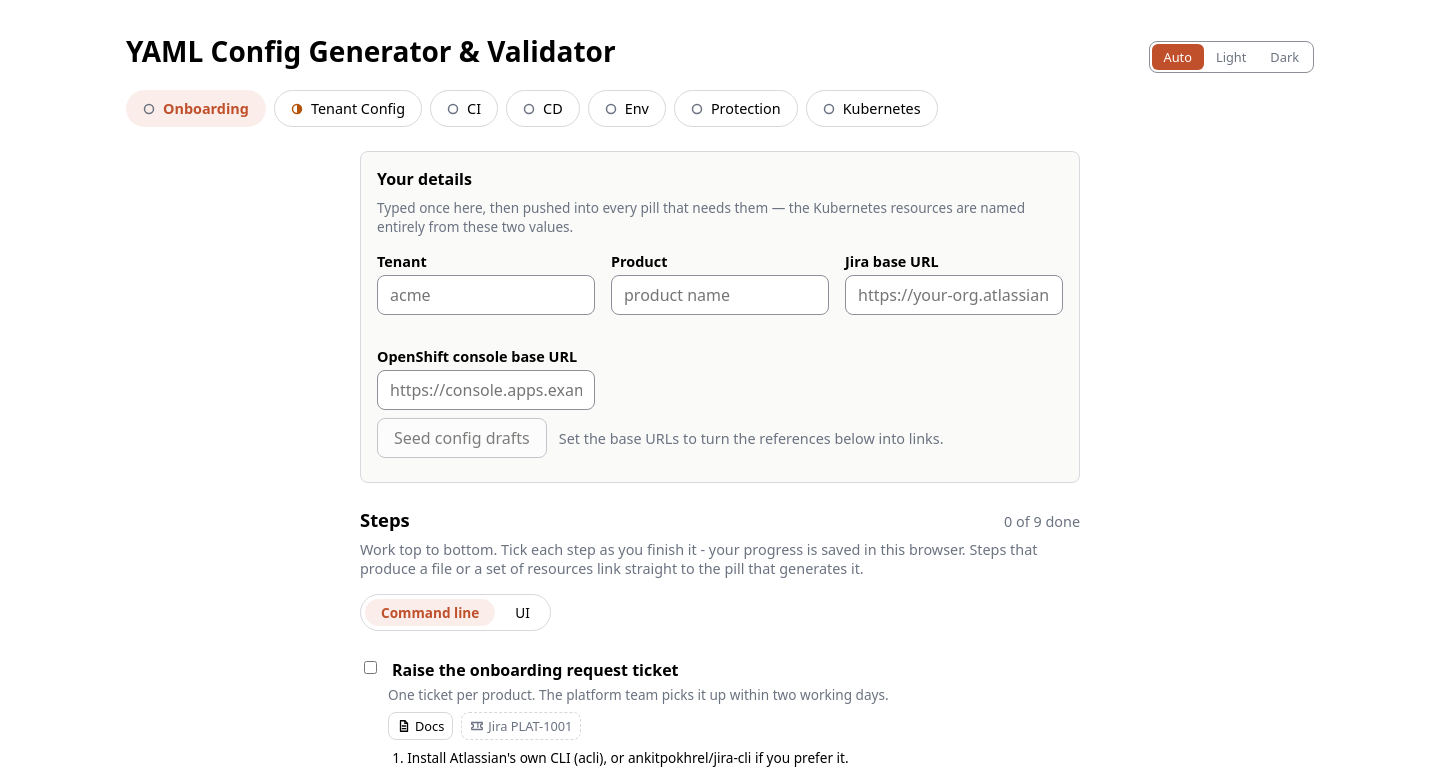
Test case: App › seeding reaches the Kubernetes pill, which names every resource from those two values
Type "globex" into the field labelled "Tenant" at {"x": 486, "y": 295}, box [377,275,595,315]
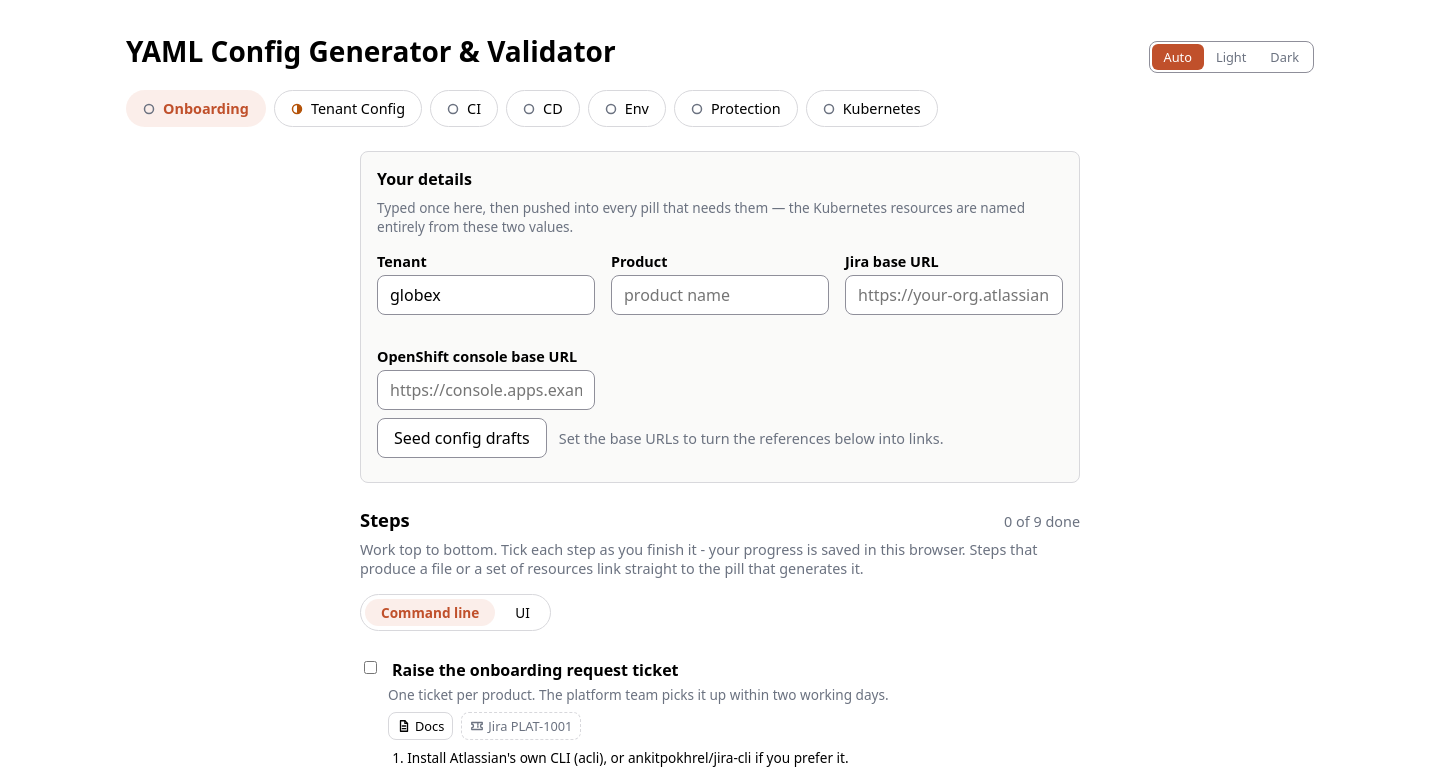
Type "gadgets" into the field labelled "Product" at {"x": 720, "y": 295}, box [611,275,829,315]
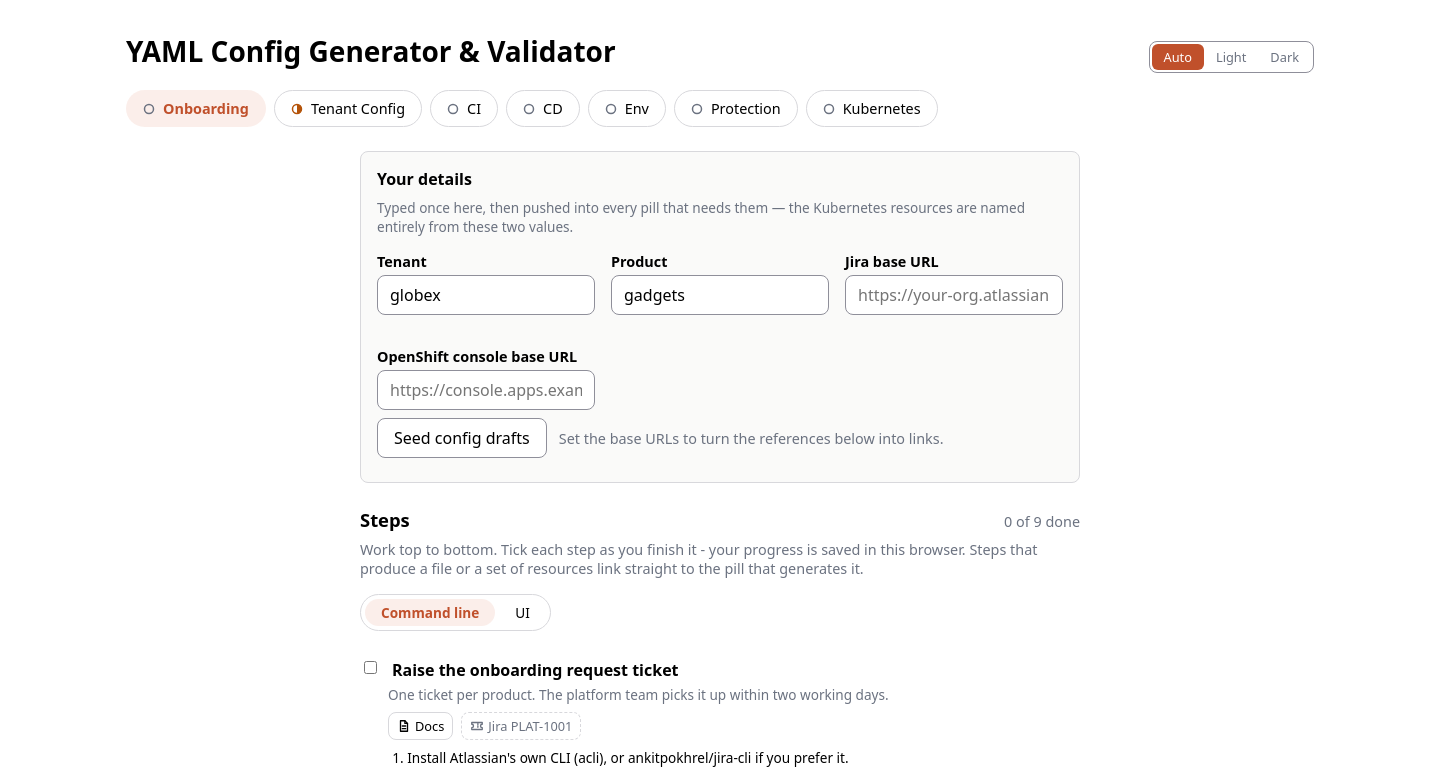
Click the button "Seed config drafts" at {"x": 462, "y": 438}, box [377,418,547,458]
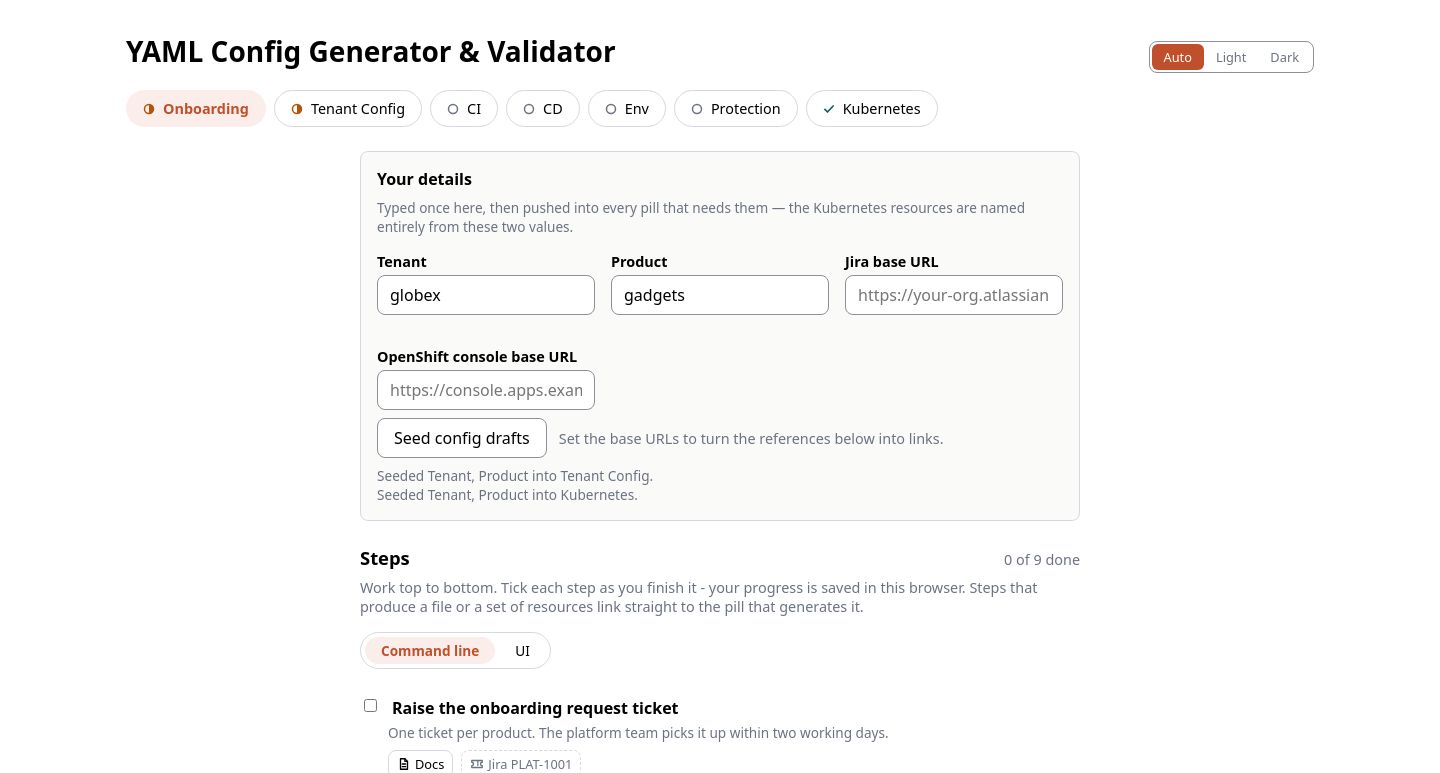
Click the button "Kubernetes" at {"x": 872, "y": 108}, box [806,90,938,127]
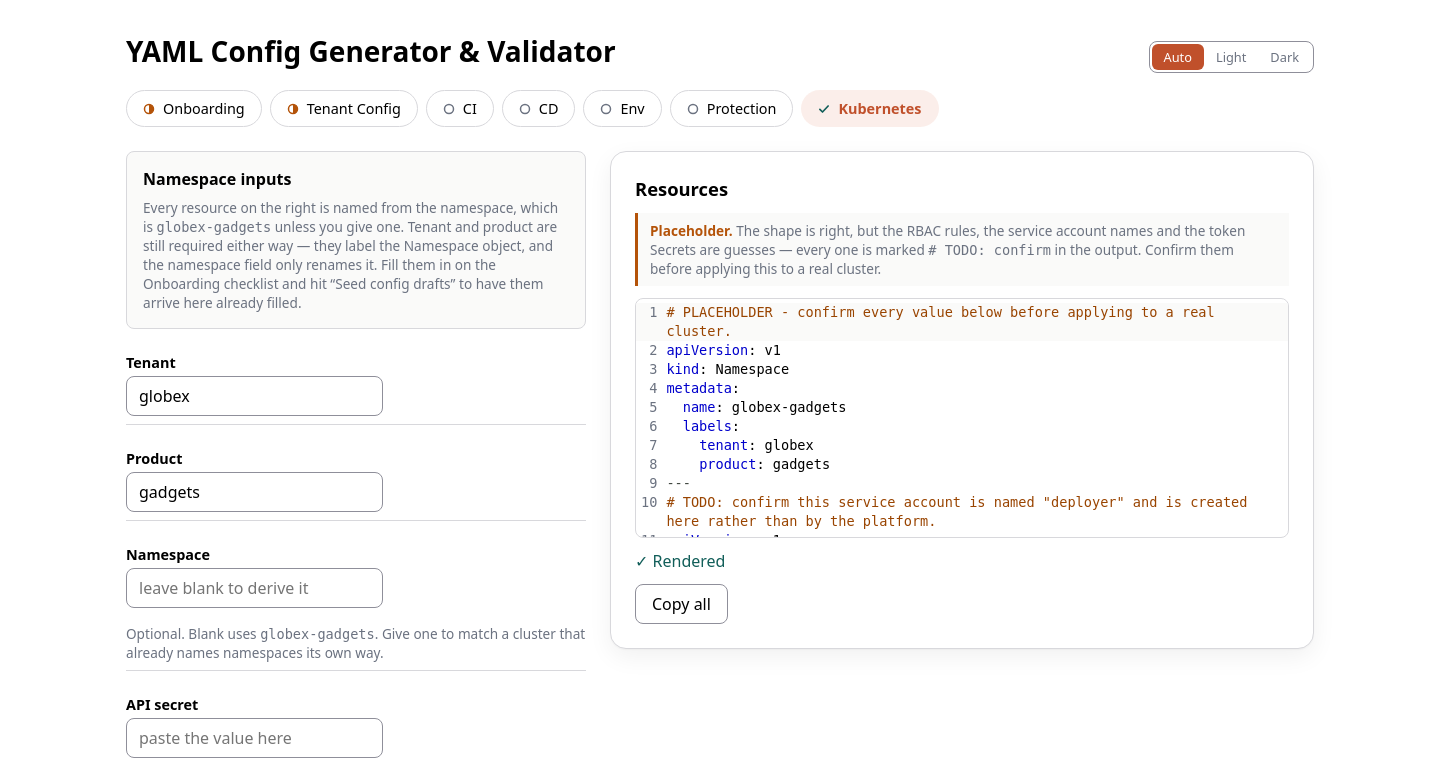
expect the element with class "yaml-panel" shows "name: globex-gadgets": met, box [610,151,1314,649]
